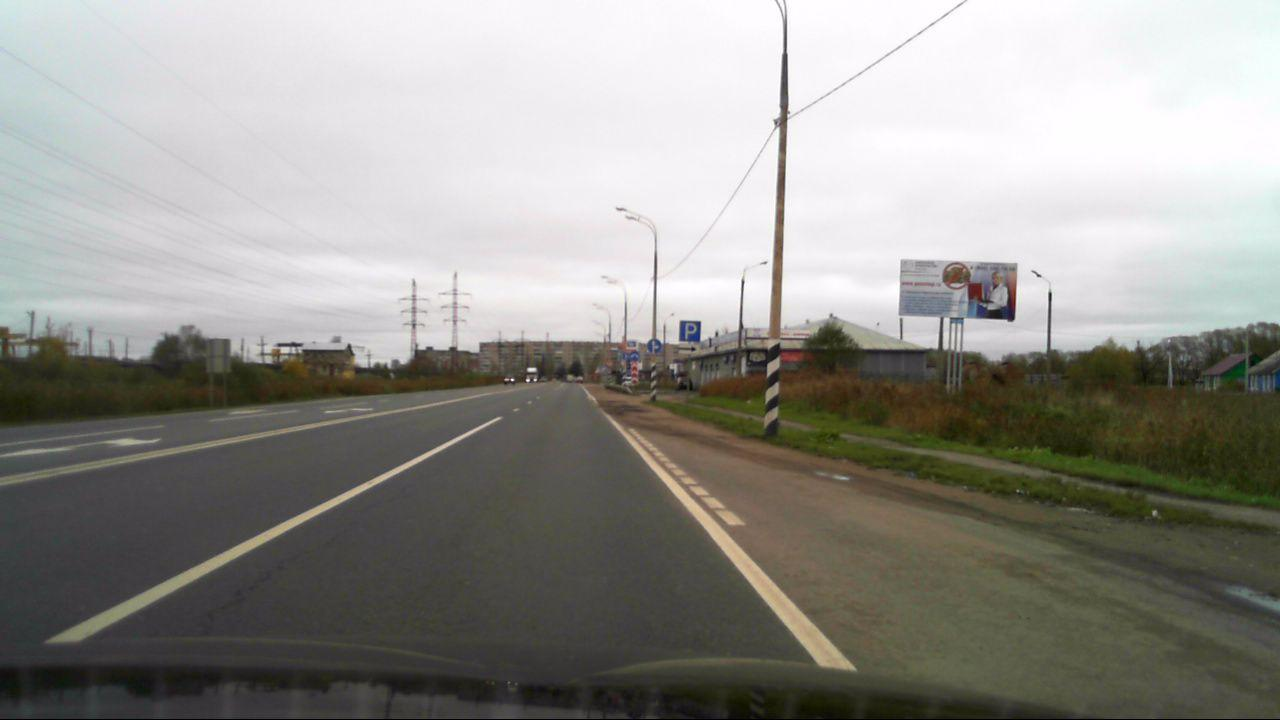road_sign: (680, 321, 701, 341), (646, 339, 663, 354)
